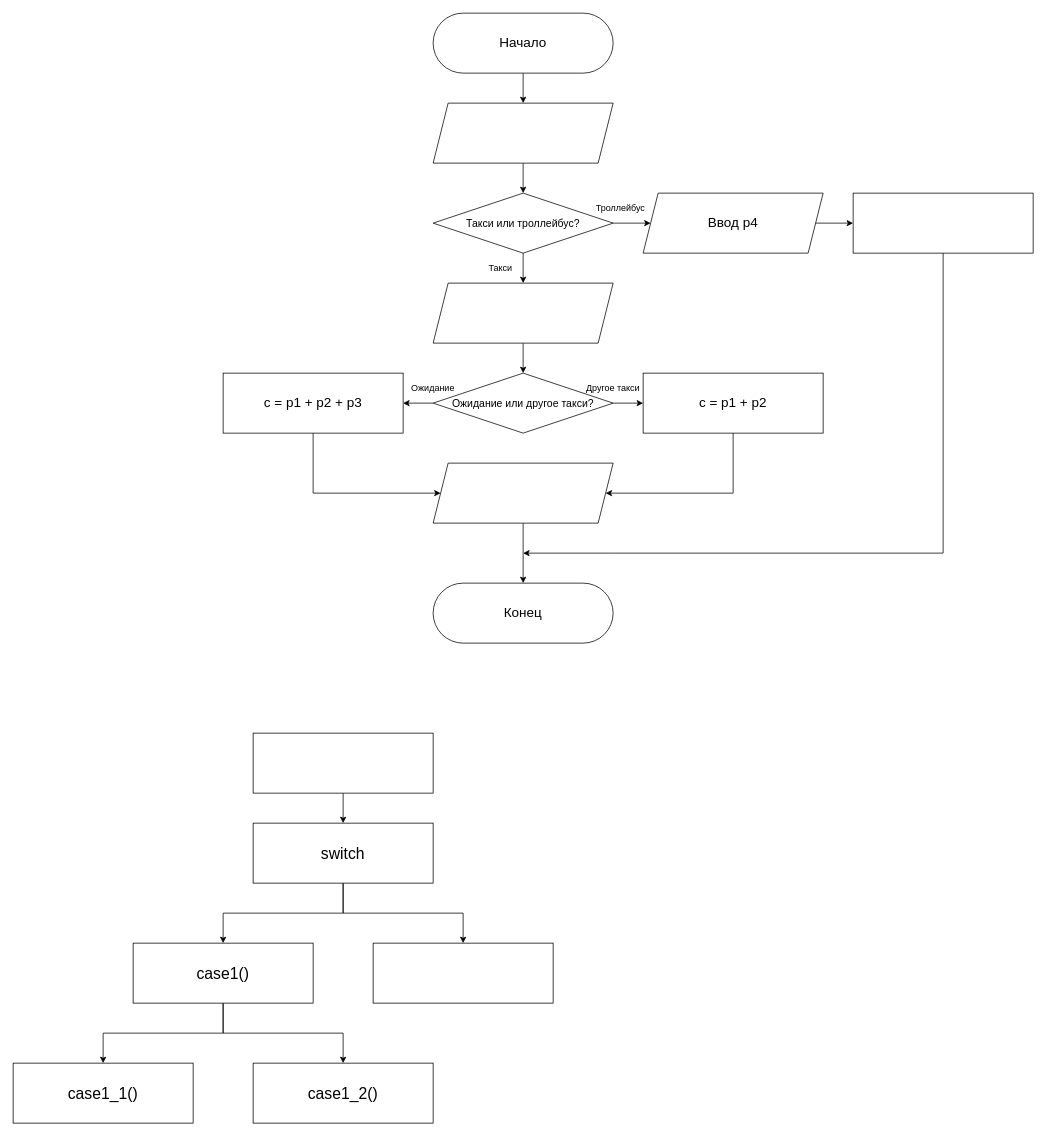
Some shapes in this 1046 by 1136 pixel diagram are drawn without their labels. The shapes that lost their labels are listed below. From the top down, each one's box as (x1, y1, x2, y2) in pixels, then its label:
(432, 102, 613, 163): Ввод c
(852, 192, 1033, 253): c = 2 * p4
(432, 282, 613, 343): Ввод p1, p2, p3
(432, 462, 613, 523): Вывод c
(252, 732, 433, 793): main()
(372, 942, 553, 1003): case2()
